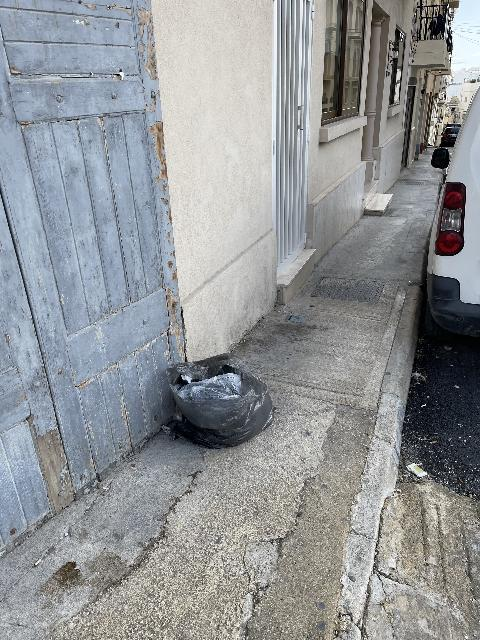Recyclable -Grey-: (165, 353, 274, 449)
